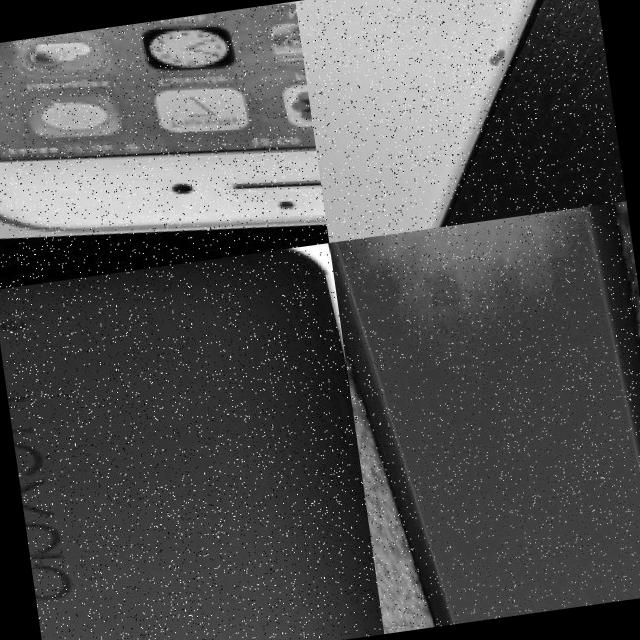dead pixel: (457, 13, 551, 108)
